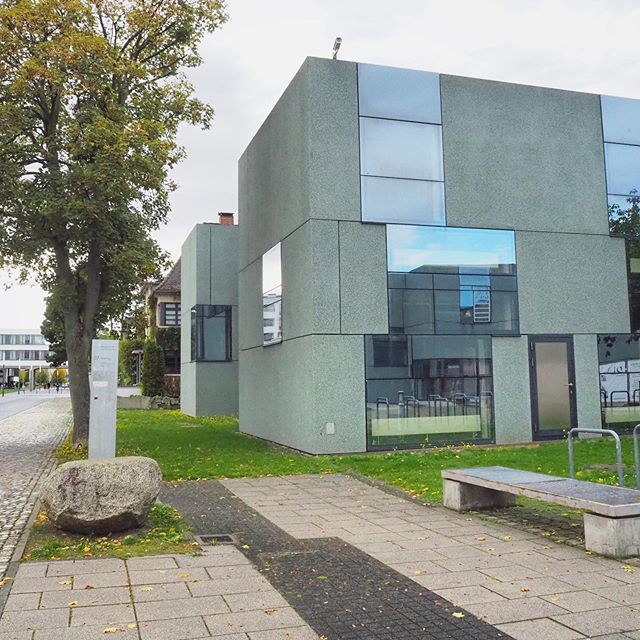bench: (445, 458, 640, 571)
building: (189, 78, 640, 427)
rocks: (25, 442, 175, 556)
sky: (198, 1, 640, 185)
tree: (1, 7, 195, 429)
